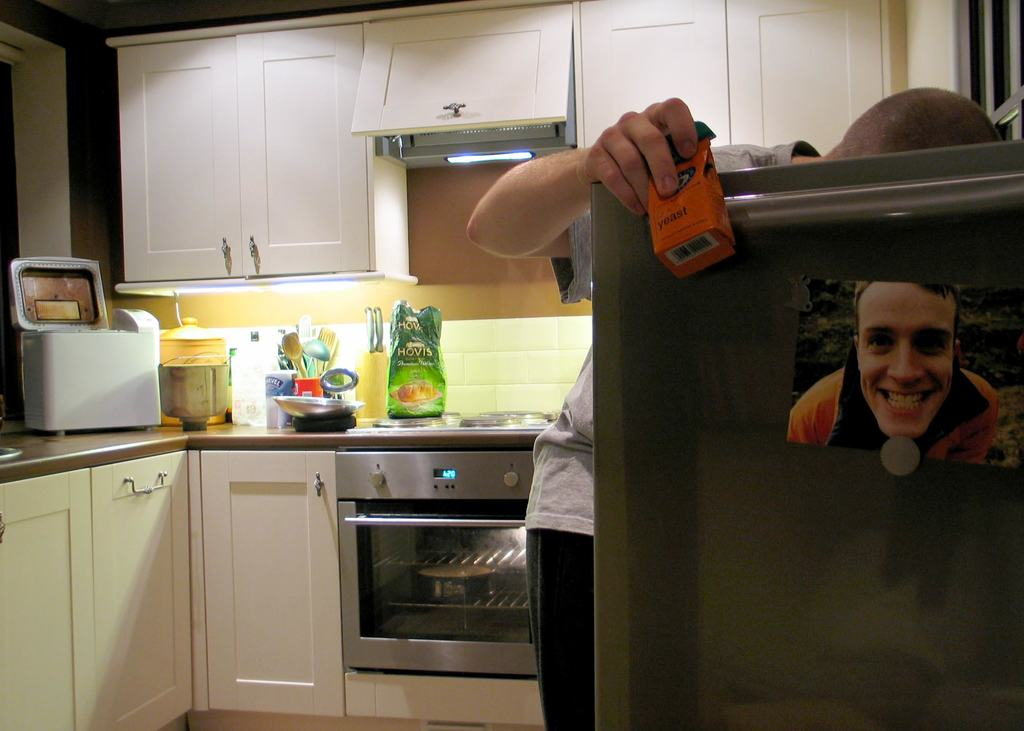cabinet door: (206, 455, 343, 692), (119, 50, 241, 267), (251, 49, 370, 266), (94, 459, 190, 710), (6, 489, 90, 731), (735, 22, 873, 140), (375, 31, 562, 118), (593, 22, 724, 133)
handle: (738, 186, 1022, 249), (354, 505, 527, 544), (129, 475, 175, 504), (307, 469, 332, 500), (214, 235, 238, 266), (436, 99, 462, 124), (243, 236, 262, 266)
refrigerator door: (600, 197, 1024, 731)
